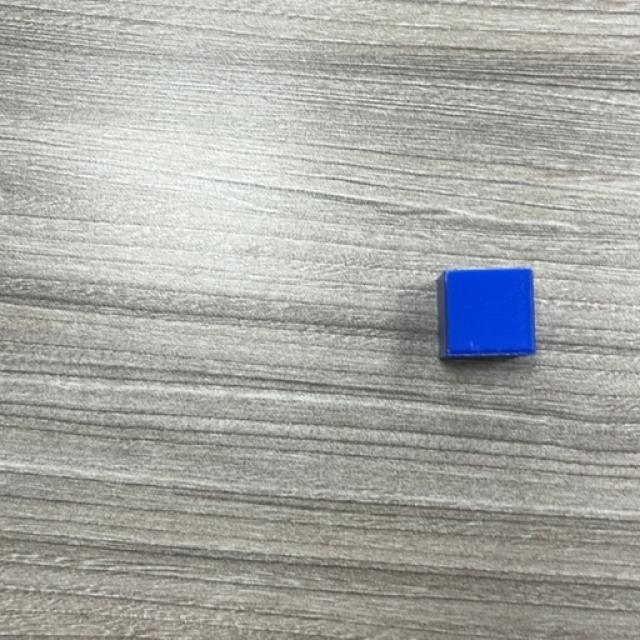Azul: (438, 266, 539, 364)
